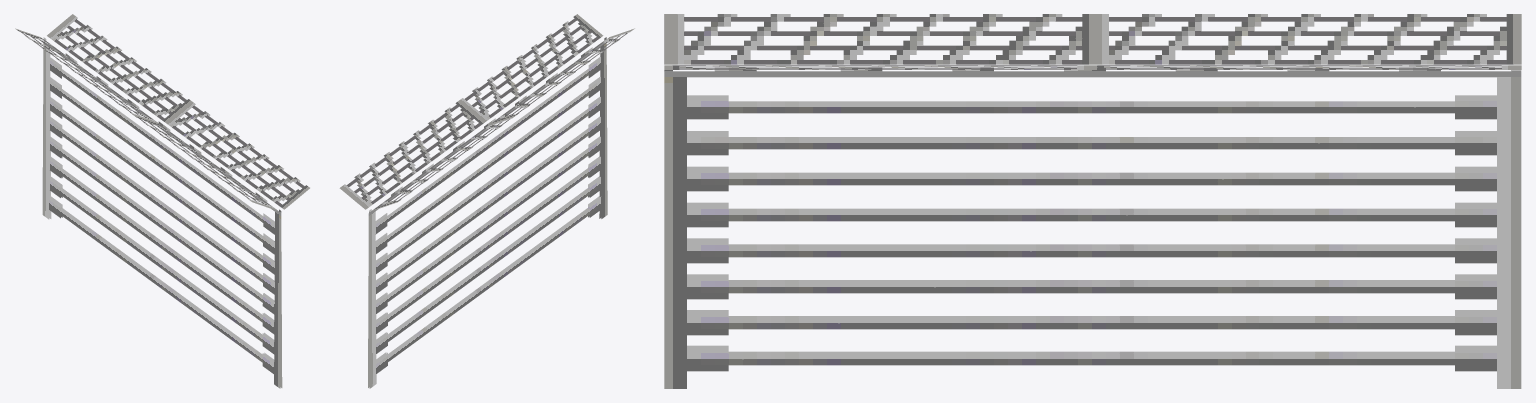
File: razorwirefencediag.glb
3 renders of one model, left to right at view 1: azimuth 30°, elevation 25°; view 2: azimuth 150°, elevation 25°; view 3: azimuth 270°, elevation 25°, orthographic. The views are drawn at different scales.
Visible parts, largest first — view 1: razor normal; view 2: razor normal; view 3: razor normal.
Part boxes in pixels (x1,y1,x2,y2): razor normal: (15,14,309,388); razor normal: (339,14,634,388); razor normal: (664,14,1521,388).
Size of the model in its own units: 1.72 by 5.47 by 12.19.
Materials: 1 (1 with a texture image).
